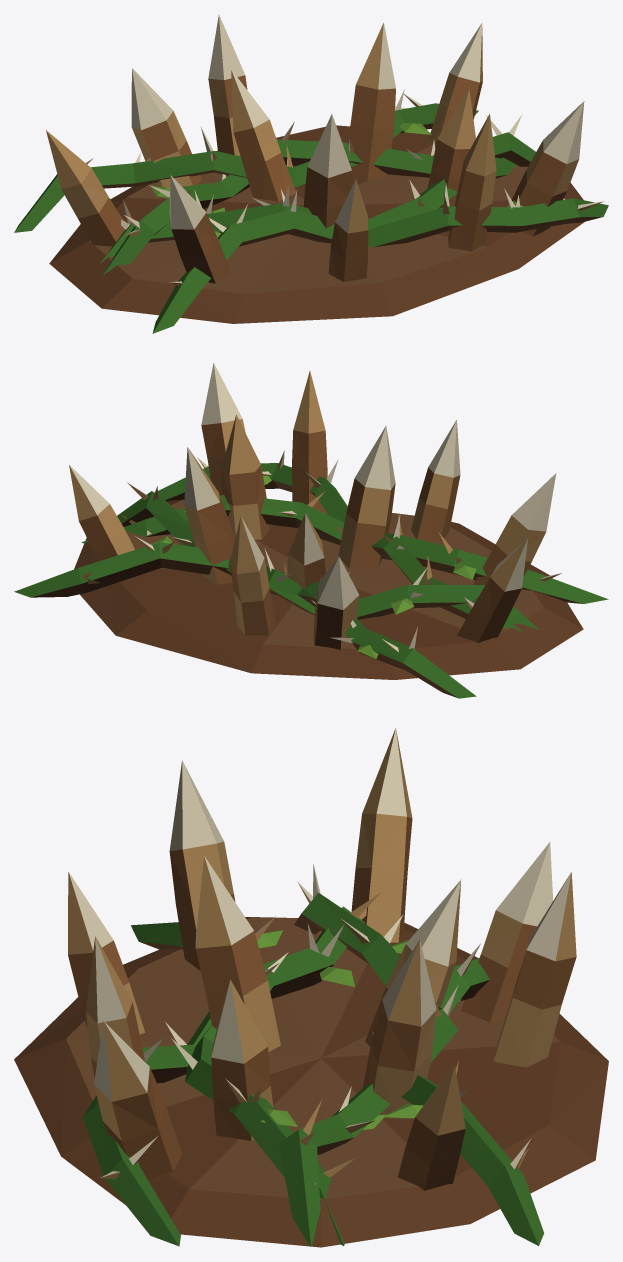
The model's file is thorn_spikes_3.glb.
The picture shows the model from 3 angles, top to bottom: view 1: azimuth 30°, elevation 25°; view 2: azimuth 150°, elevation 25°; view 3: azimuth 270°, elevation 25°; orthographic projection. The views are drawn at different scales.
Visible parts, largest first — view 1: thorn_spikes_3; view 2: thorn_spikes_3; view 3: thorn_spikes_3.
Part boxes in pixels (x1,y1,x2,y2): thorn_spikes_3: [14, 15, 608, 333]; thorn_spikes_3: [14, 363, 608, 698]; thorn_spikes_3: [14, 728, 608, 1247].
Size of the model in its own units: 1.28 by 0.3862 by 0.9756.
